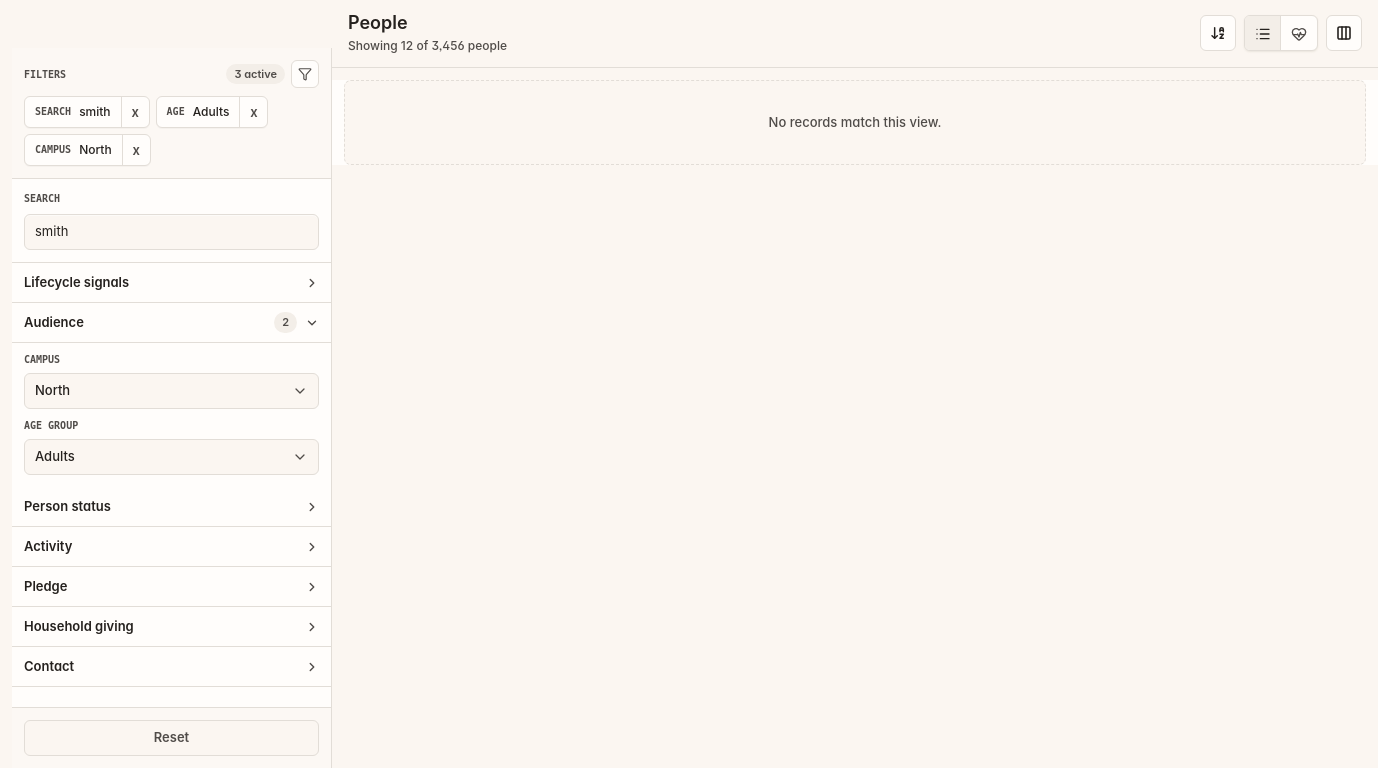
ListViewShell › keeps search visible while accordion filter groups use one open panel
expect the field with placeholder "Name or email" holds "smith": met, box [24,214,319,250]
expect the button with aria-label "campus" reads "North": met, box [24,373,319,409]
Click the button "Person status".
click(67, 506)  # box [12,487,331,527]
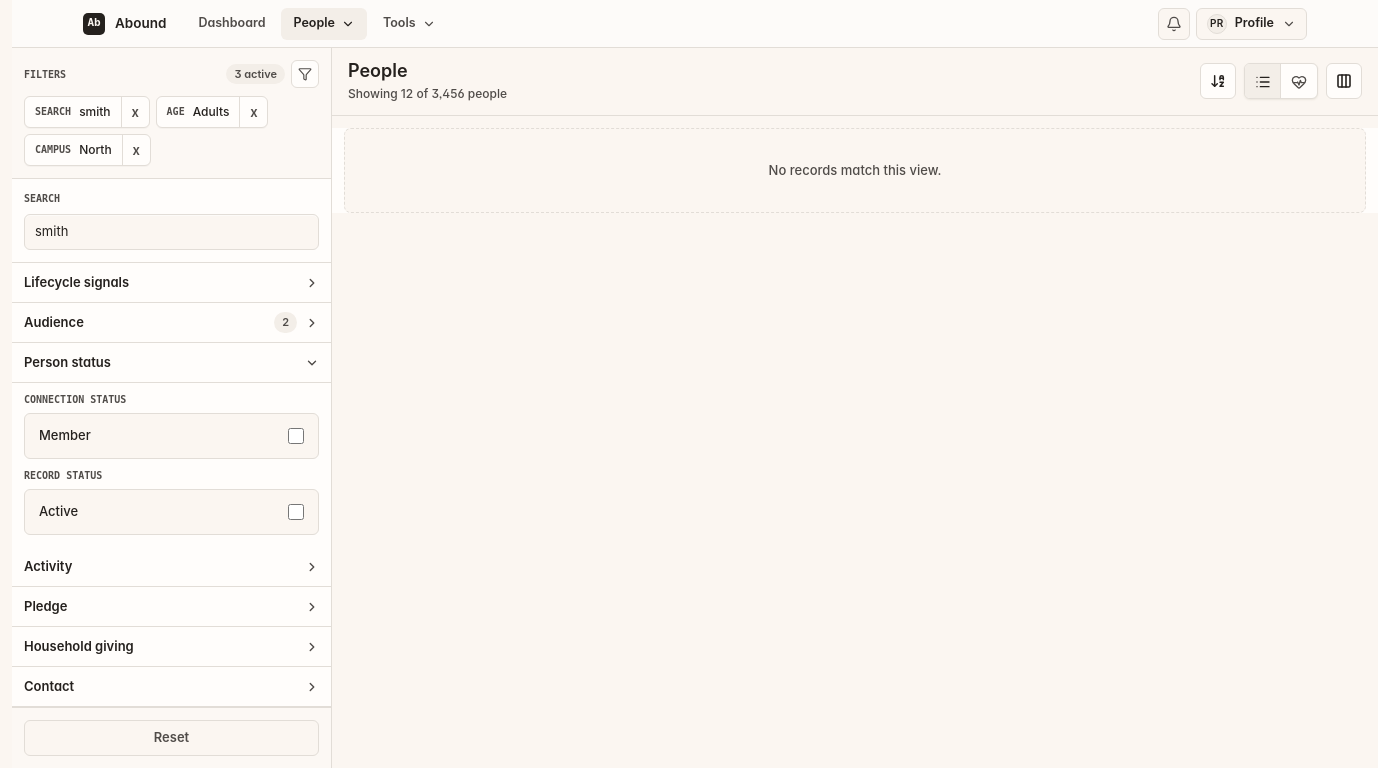
expect the button "Audience 2" is collapsed: met, box [12,303,331,343]
expect the button "Person status" is expanded: met, box [12,343,331,383]
expect the checkbox labelled "Member" is not checked: met, box [288,428,304,444]
